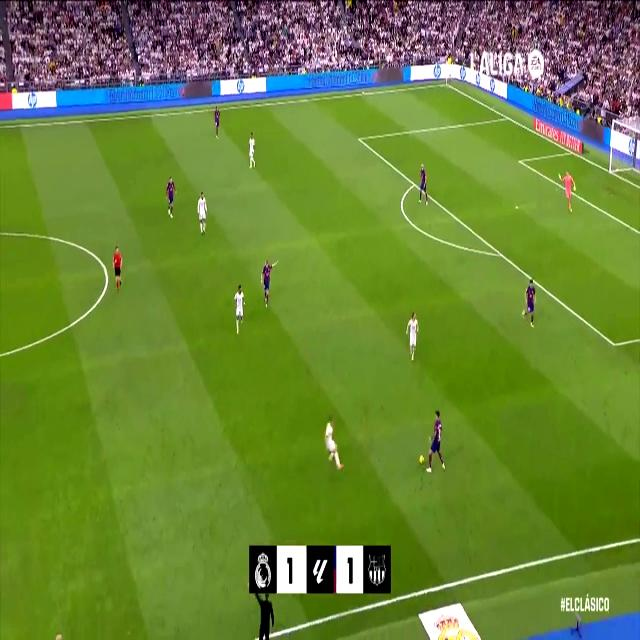bigarea_bottom_inner: (609, 332, 619, 356)
bigarea_top_inner: (355, 130, 363, 146)
bigarea_top_outter: (503, 110, 511, 123)
bottom_arc_area_intersection: (496, 245, 505, 262)
corner: (443, 78, 450, 88)
smallarea_top_inner: (517, 154, 523, 167)
top_arc_area_intersection: (411, 176, 417, 190)
